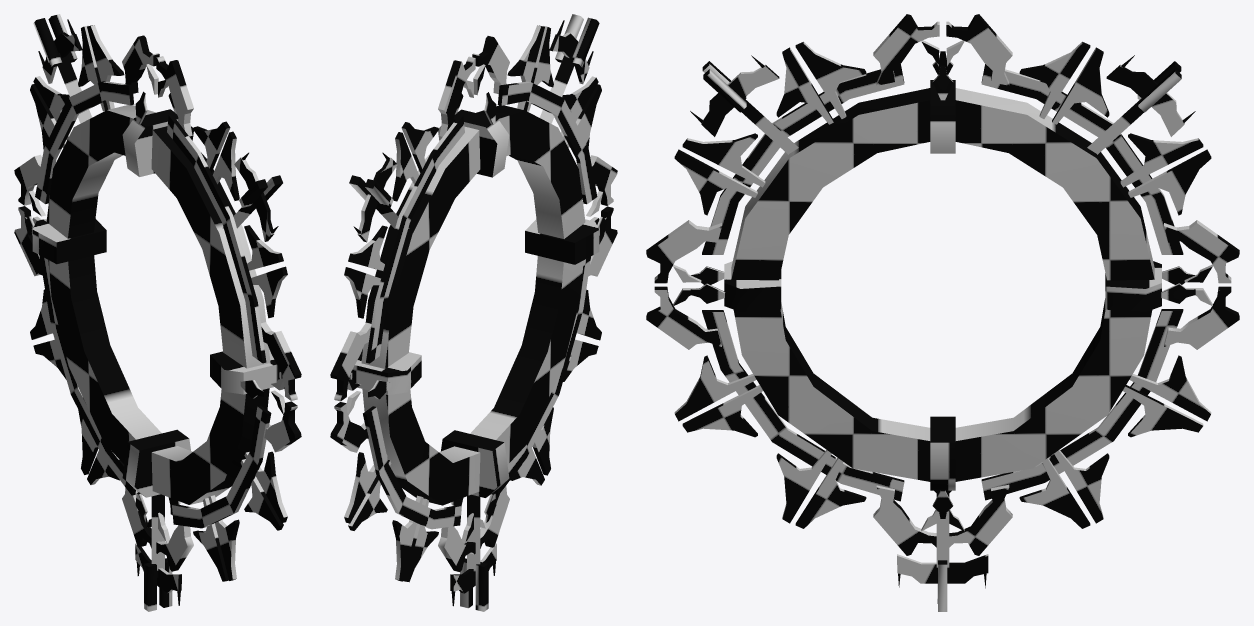
File: galaxygate_gamma.obj
3 views of the same model, side by side, from view 1: azimuth 30°, elevation 25°; view 2: azimuth 150°, elevation 25°; view 3: azimuth 270°, elevation 25° (orthographic). The views are drawn at different scales.
Parts seen in each view (by area): view 1: galaxygate_gamma; view 2: galaxygate_gamma; view 3: galaxygate_gamma.
Boxes of the visible parts, left/top/right/bottom form: galaxygate_gamma: left=14, top=14, right=301, bottom=611; galaxygate_gamma: left=330, top=14, right=617, bottom=611; galaxygate_gamma: left=646, top=14, right=1239, bottom=611.
Bounding box in the file's own units: 61.68 × 553 × 504.
1 material, 1 textured.
